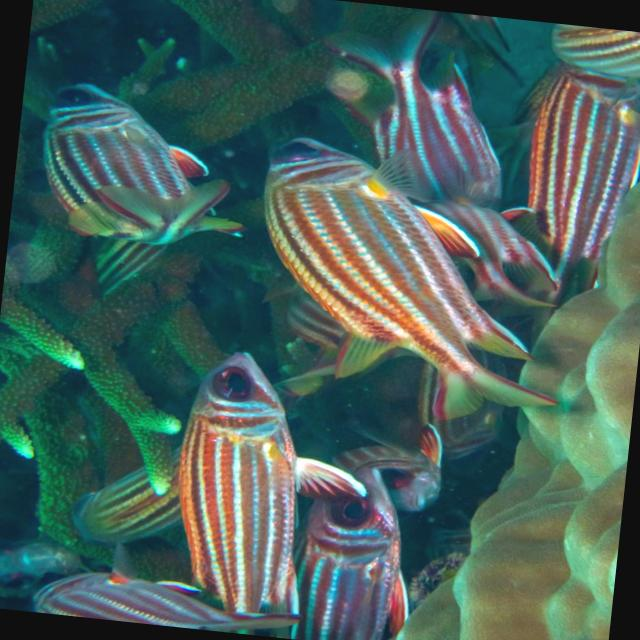Asker Baligi: (217, 122, 592, 446), (132, 325, 334, 640), (15, 60, 267, 268)
